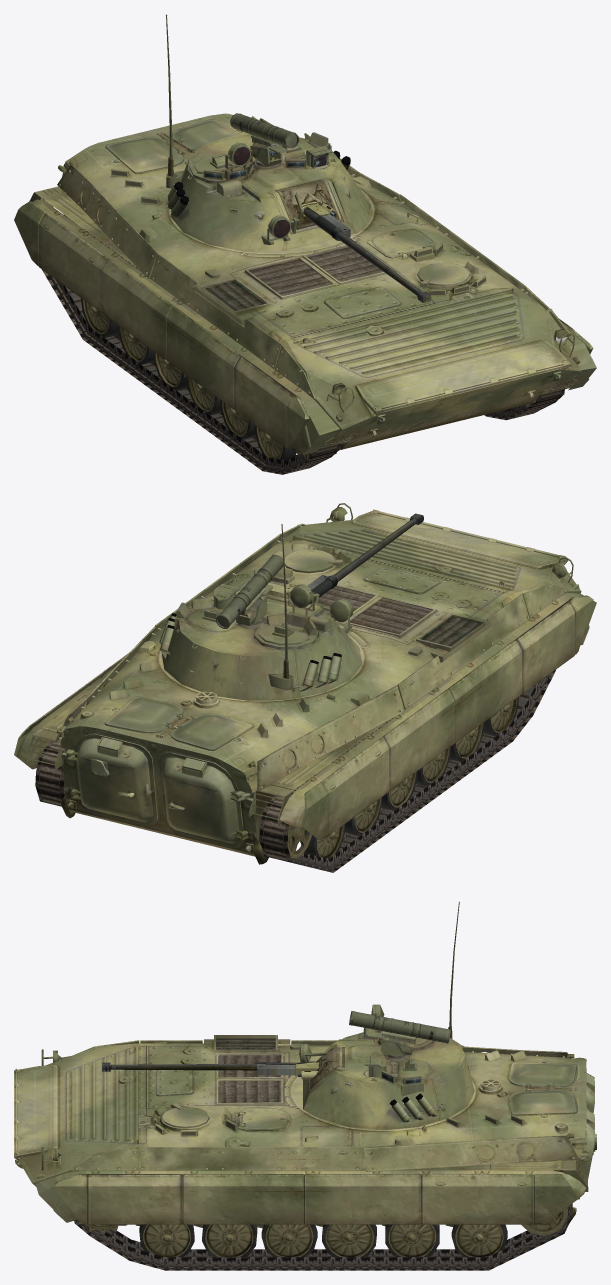
File: bmp.glb
The picture shows the model from 3 angles, top to bottom: view 1: azimuth 30°, elevation 25°; view 2: azimuth 150°, elevation 25°; view 3: azimuth 270°, elevation 25°; orthographic projection. The views are drawn at different scales.
Parts seen in each view (by area): view 1: Object_2, Object_7, Object_12, Object_10, Object_8, Object_6, Object_11, Object_13; view 2: Object_2, Object_7, Object_12, Object_6, Object_10, Object_8, Object_11, Object_13; view 3: Object_2, Object_7, Object_12, Object_11, Object_10, Object_6, Object_8, Object_13.
Part boxes in pixels (x1=…): Object_2: x1=58, y1=14, x2=581, y2=449; Object_7: x1=14, y1=118, x2=593, y2=449; Object_12: x1=166, y1=132, x2=431, y2=302; Object_10: x1=42, y1=215, x2=564, y2=474; Object_8: x1=29, y1=186, x2=596, y2=454; Object_6: x1=82, y1=119, x2=470, y2=288; Object_11: x1=81, y1=298, x2=535, y2=460; Object_13: x1=230, y1=113, x2=299, y2=148; Object_2: x1=57, y1=503, x2=581, y2=864; Object_7: x1=14, y1=523, x2=593, y2=840; Object_12: x1=159, y1=513, x2=423, y2=700; Object_6: x1=74, y1=549, x2=343, y2=848; Object_10: x1=35, y1=670, x2=555, y2=872; Object_8: x1=16, y1=593, x2=596, y2=828; Object_11: x1=64, y1=676, x2=547, y2=858; Object_13: x1=216, y1=554, x2=283, y2=628; Object_2: x1=14, y1=901, x2=587, y2=1228; Object_7: x1=54, y1=1040, x2=578, y2=1224; Object_12: x1=102, y1=1004, x2=474, y2=1130; Object_11: x1=78, y1=1207, x2=568, y2=1256; Object_10: x1=74, y1=1172, x2=572, y2=1270; Object_6: x1=162, y1=1062, x2=596, y2=1194; Object_8: x1=35, y1=1160, x2=588, y2=1222; Object_13: x1=349, y1=1011, x2=450, y2=1043.
Size of the model in its own units: 14.4 by 15.31 by 28.02.
10 materials, 8 textured.
